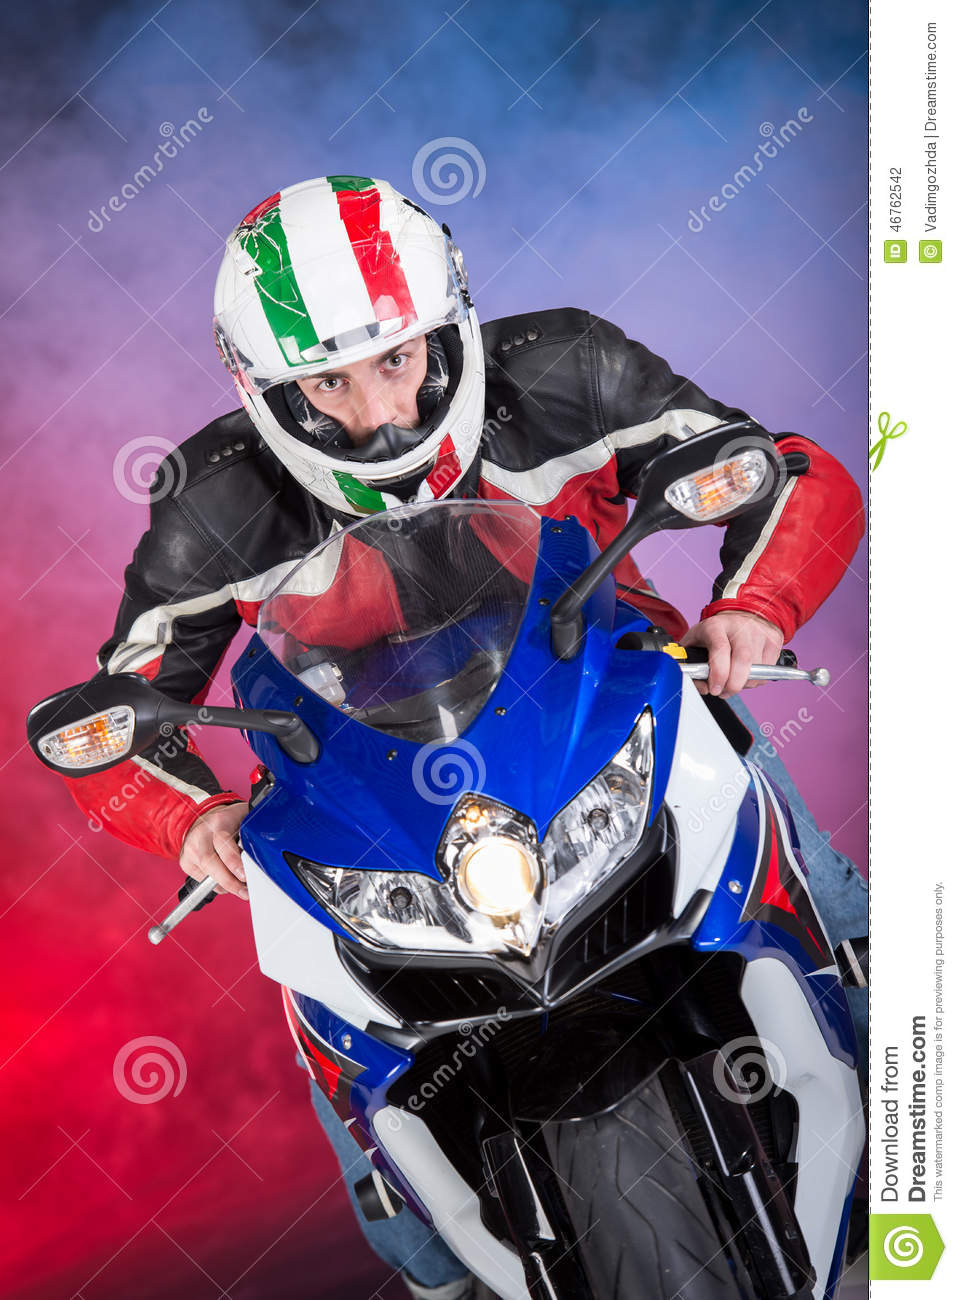helmet: (189, 175, 509, 507)
